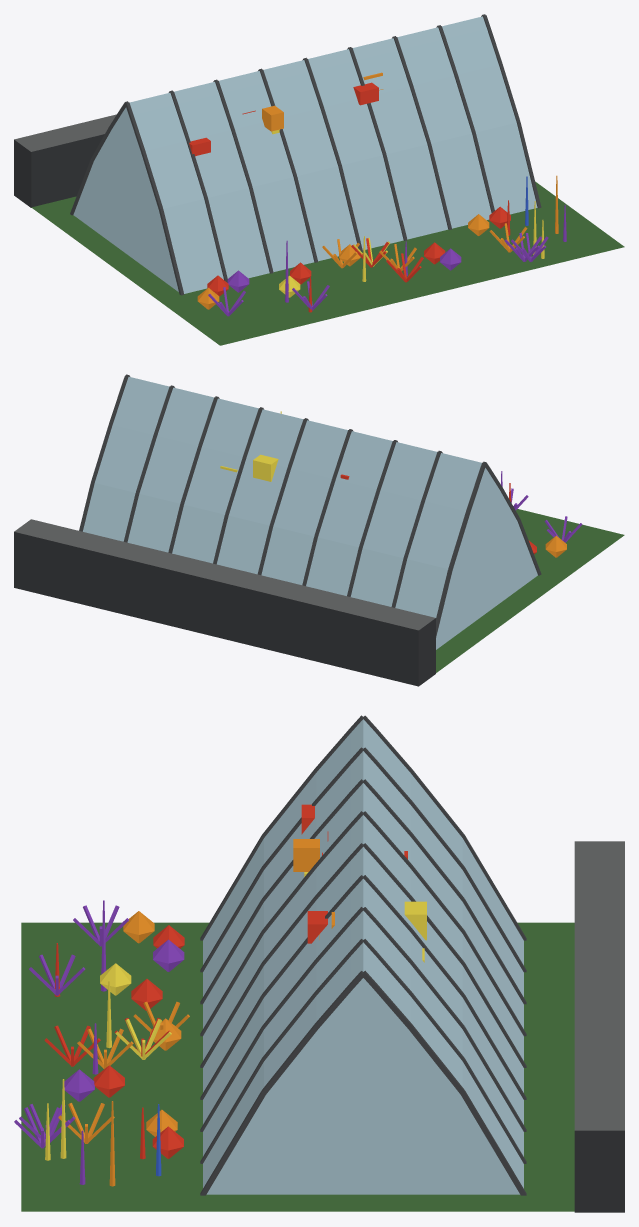
File: chihuly_garden_glass.glb
The picture shows the model from 3 angles, top to bottom: view 1: azimuth 30°, elevation 25°; view 2: azimuth 150°, elevation 25°; view 3: azimuth 270°, elevation 25°; orthographic projection. The views are drawn at different scales.
Visible parts, largest first — view 1: chihuly_garden_glass; view 2: chihuly_garden_glass; view 3: chihuly_garden_glass.
Part boxes in pixels (<box>): chihuly_garden_glass: <box>14,14,624,345</box>; chihuly_garden_glass: <box>14,374,624,686</box>; chihuly_garden_glass: <box>14,715,624,1212</box>.
Size of the model in its own units: 34 by 12.34 by 30.36.
1 material, 1 textured.
